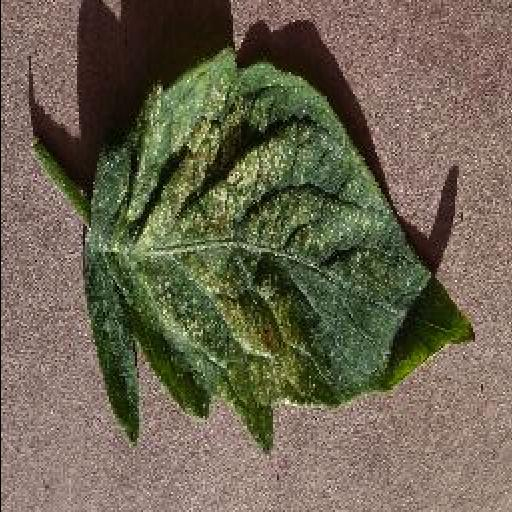disease_tomato: (82, 50, 476, 456)
